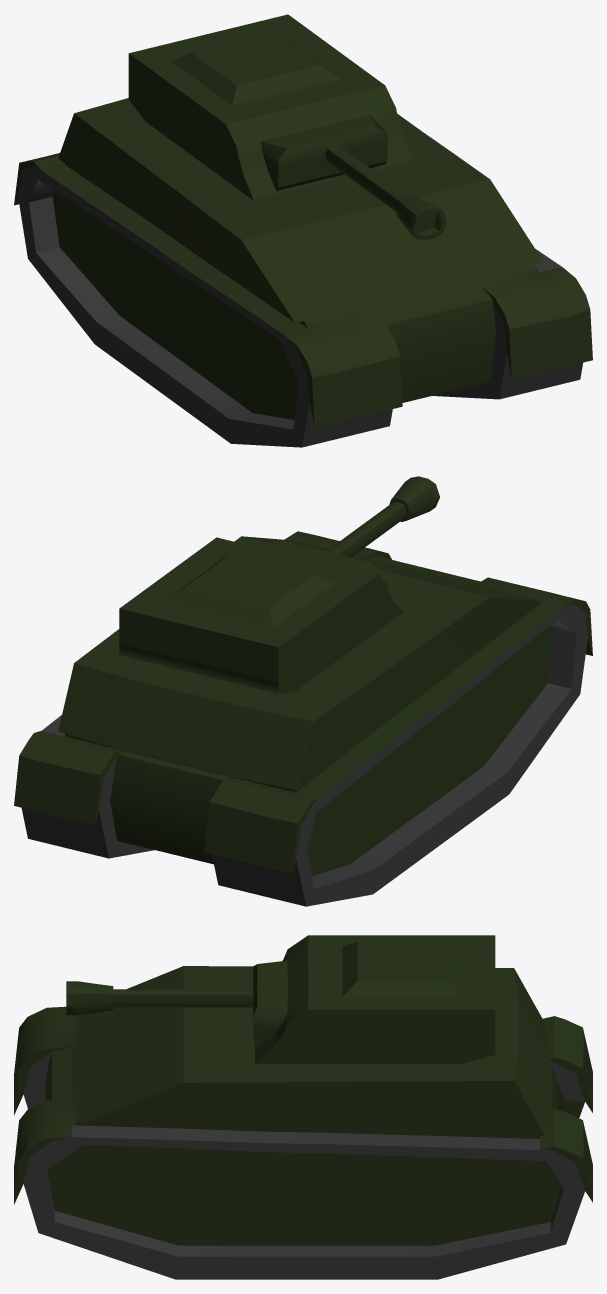
Rendered from Tank Colored.fbx.
The picture shows the model from 3 angles, top to bottom: view 1: azimuth 30°, elevation 25°; view 2: azimuth 150°, elevation 25°; view 3: azimuth 270°, elevation 25°; orthographic projection. The views are drawn at different scales.
Parts seen in each view (by area): view 1: pCube1; view 2: pCube1; view 3: pCube1.
Part boxes in pixels (box(x1,y1,x2,y2)): pCube1: box(14, 14, 592, 447); pCube1: box(14, 476, 592, 906); pCube1: box(14, 935, 592, 1279).
Bounding box in the file's own units: 3.62 × 3.29 × 6.78.
